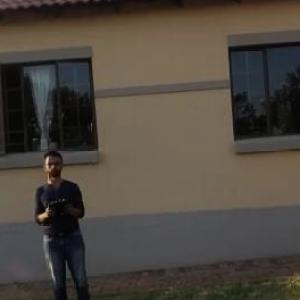follow: (30, 141, 100, 299)
